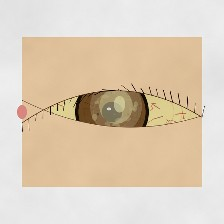corneal_ulcer: (87, 83, 145, 129)
